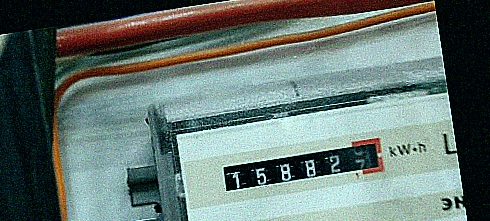1: (229, 168, 241, 188)
2: (327, 151, 341, 173)
5: (251, 164, 267, 185)
7: (351, 155, 365, 168)
8: (301, 155, 317, 178), (277, 160, 292, 181)
screen: (215, 134, 388, 198)
